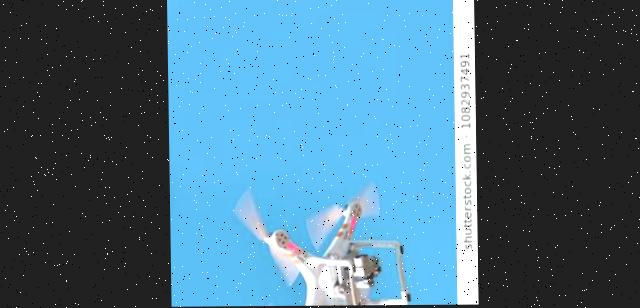drone: (215, 0, 478, 307)
